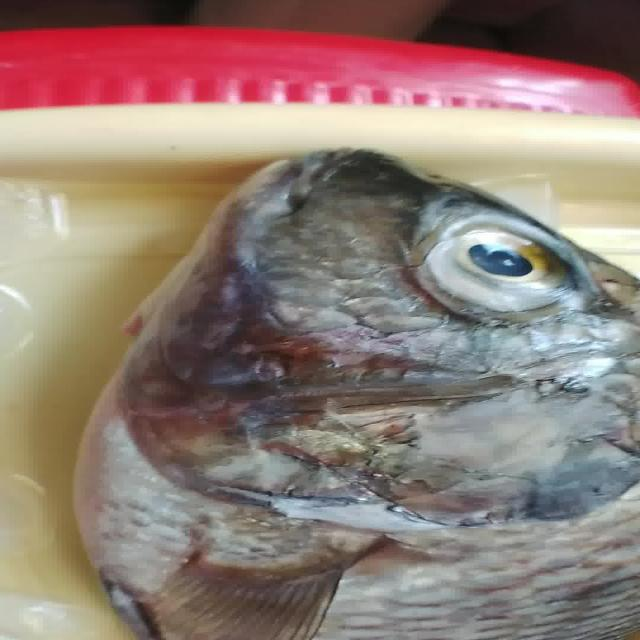Fresh: (393, 211, 583, 307)
